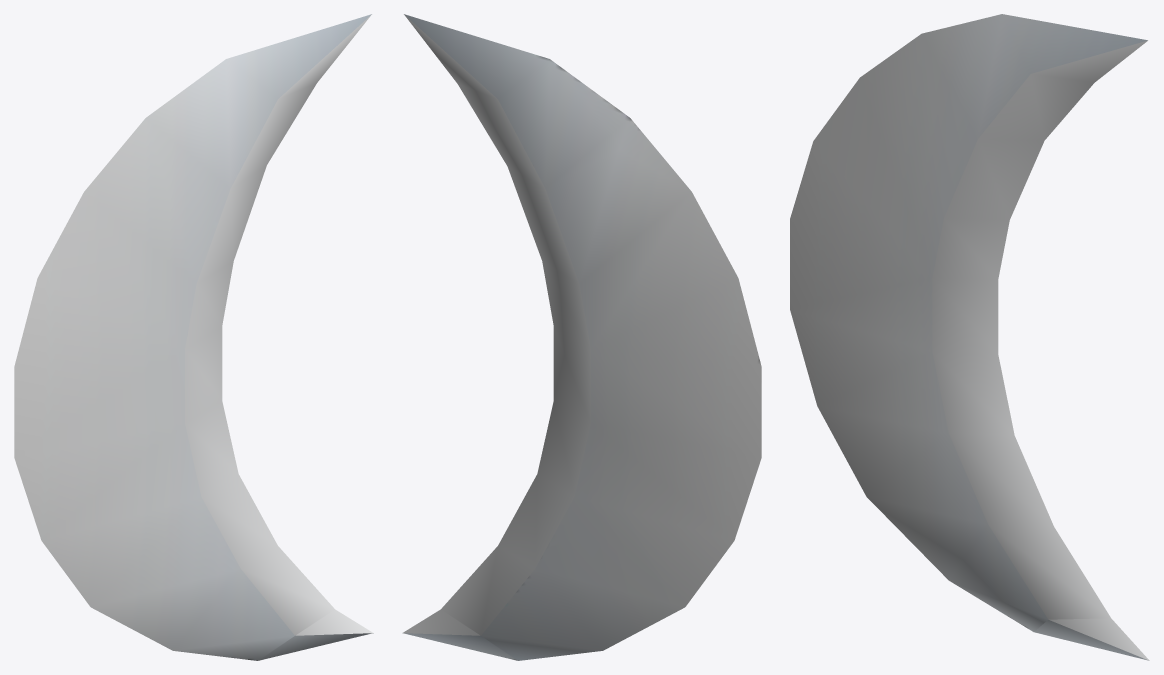
The model's file is Windcuter 1.fbx.
3 renders of one model, left to right at view 1: azimuth 30°, elevation 25°; view 2: azimuth 150°, elevation 25°; view 3: azimuth 330°, elevation 25°, orthographic.
Visible parts, largest first — view 1: mqo_mesh; view 2: mqo_mesh; view 3: mqo_mesh.
Part boxes in pixels (x1,y1,x2,y2): mqo_mesh: (14, 14, 373, 660); mqo_mesh: (402, 14, 761, 660); mqo_mesh: (790, 14, 1149, 660).
Bounding box in the file's own units: 91.97 × 151 × 12.64.
